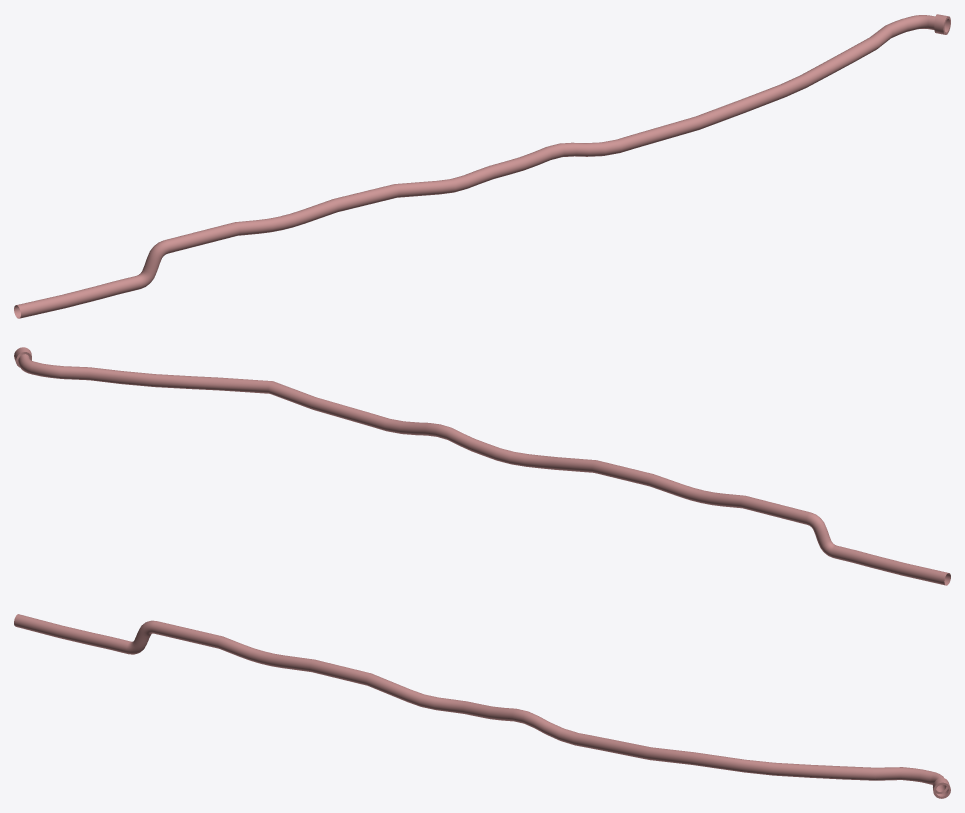
File: Pipe_Big_R_Up.fbx
3 views of the same model, one above another, from view 1: azimuth 30°, elevation 25°; view 2: azimuth 150°, elevation 25°; view 3: azimuth 330°, elevation 25° (orthographic). The views are drawn at different scales.
Parts seen in each view (by area): view 1: Pipe_Big_R_Up; view 2: Pipe_Big_R_Up; view 3: Pipe_Big_R_Up.
Part boxes in pixels (<box>): Pipe_Big_R_Up: <box>14,14,950,318</box>; Pipe_Big_R_Up: <box>14,347,950,585</box>; Pipe_Big_R_Up: <box>14,614,950,798</box>.
Bounding box in the file's own units: 2276 × 100 × 202.
